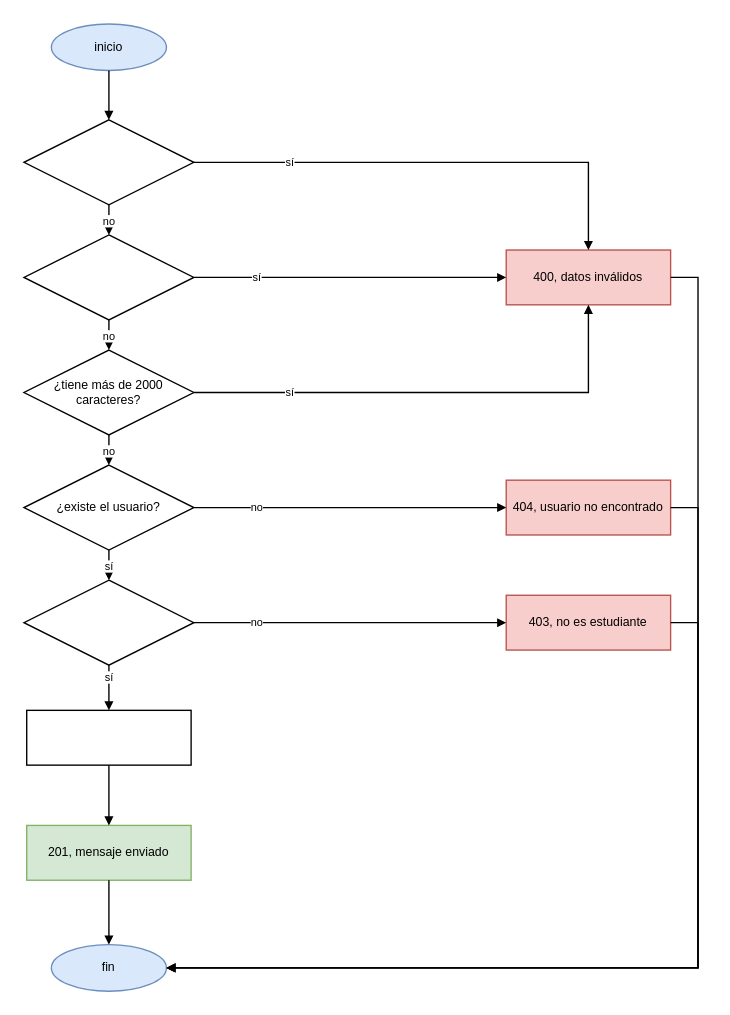
This 730x1015 diagram has some shape labels left out. The shapes that lost their labels are listed below. From the top down, each one's centre as x and y in pixels, then its label:
the point at 108,162: ¿el correo está vacío?
the point at 108,277: ¿el mensaje está vacío?
the point at 108,622: ¿es estudiante?
the point at 108,737: guarda el mensaje
